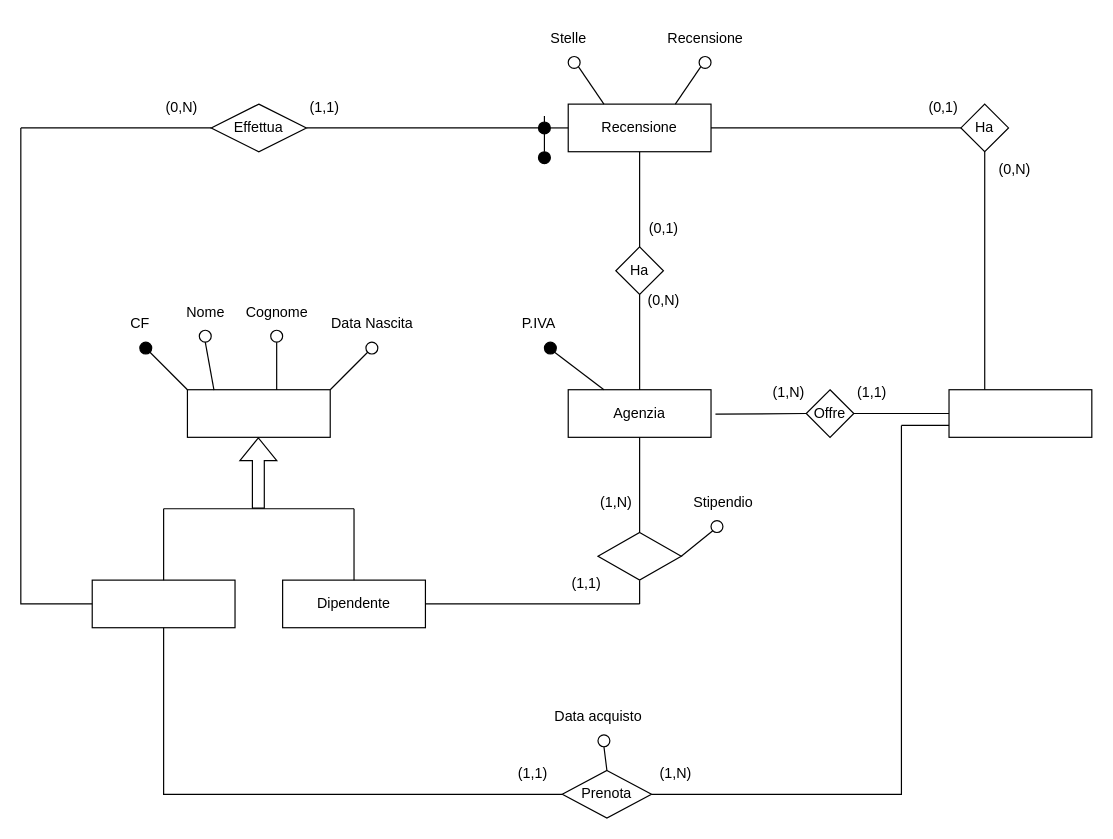
Some shapes in this 1113 by 839 pixel diagram are drawn without their labels. Each missing label, with the centre of its shape:
"Cliente" goes at (x=163, y=603).
"Lavora" goes at (x=639, y=555).
"Pacchetto" goes at (x=1020, y=413).
"Persona Anagrafica" goes at (x=258, y=413).
